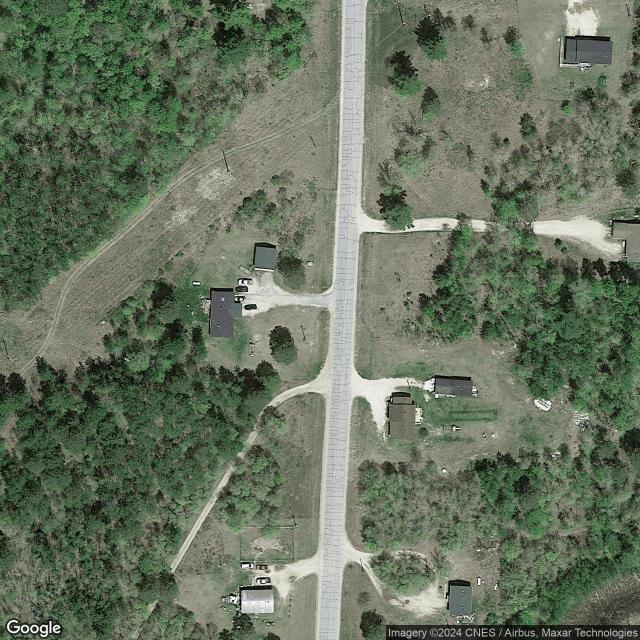Propane: (265, 621, 276, 626), (191, 281, 202, 286), (477, 575, 481, 587), (633, 214, 639, 219)
